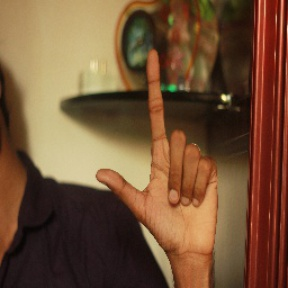L: (96, 48, 224, 240)
